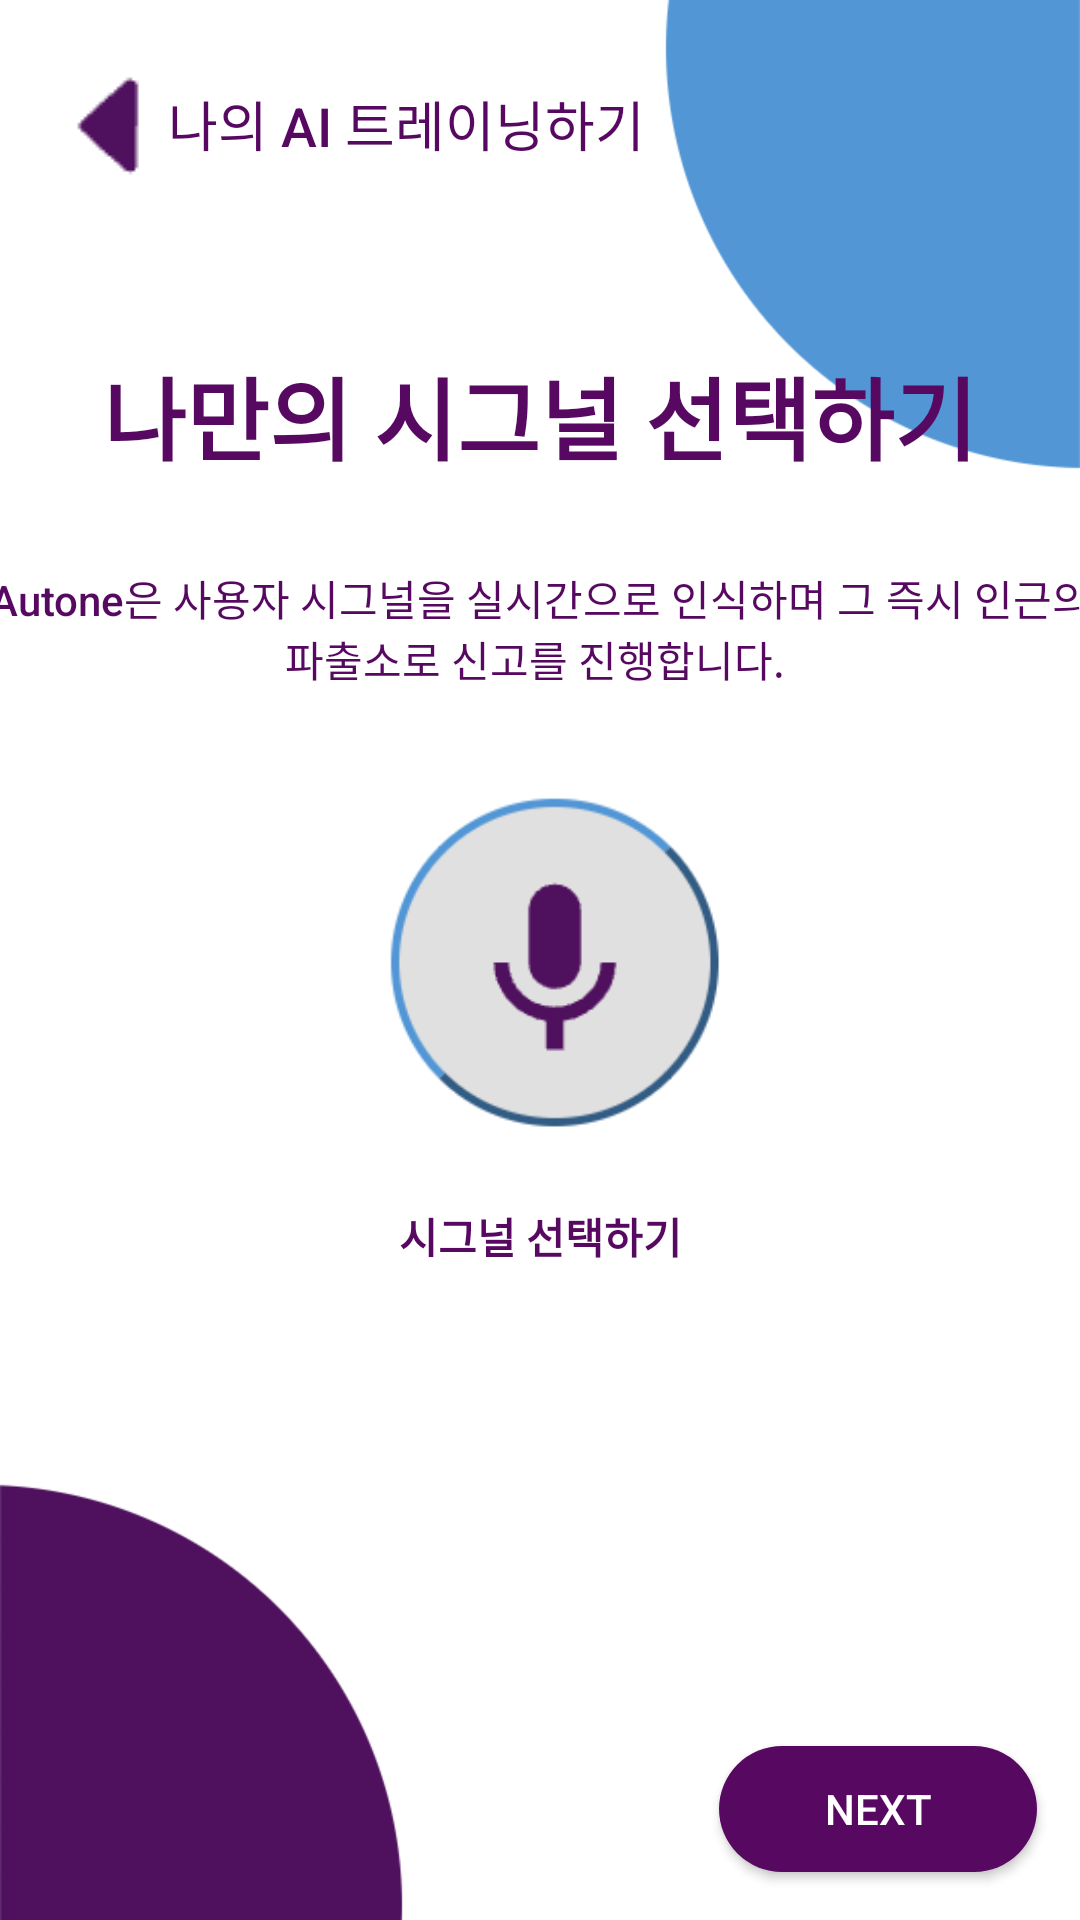

Where to tap for icons on this 1080x1920 app screen, as (x,y):
previous: (108,125)
voice recognition: (554,962)
